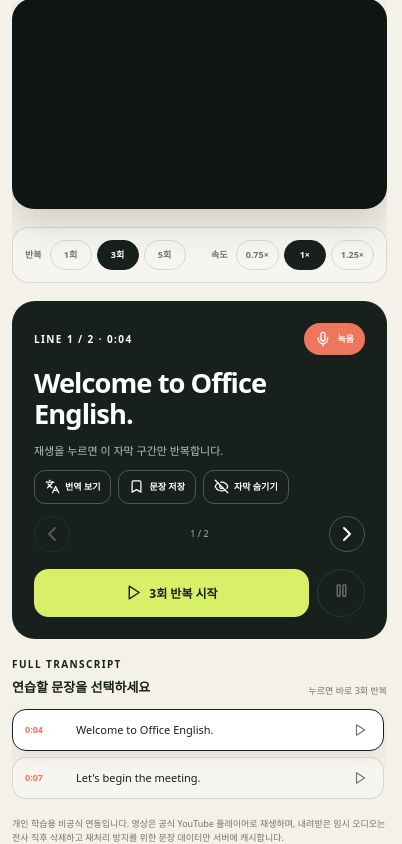
it: YouTubePractice › loads automatic captions and starts a segment loop
The width and height of the screenshot is (402, 844).
(page scrolled)
Expected: the heading "Welcome to Office English." is shown, [34,364,266,432]
Click the button "0:07 Let's begin the meeting." at coordinates (198, 778), box [12,757,384,799]
(page scrolled)
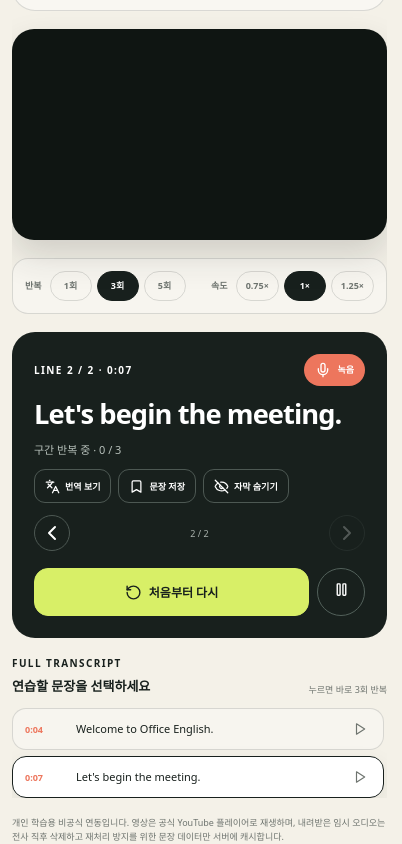
Now the text "구간 반복 중 · 0 / 3" is shown, box [34,442,121,457]
